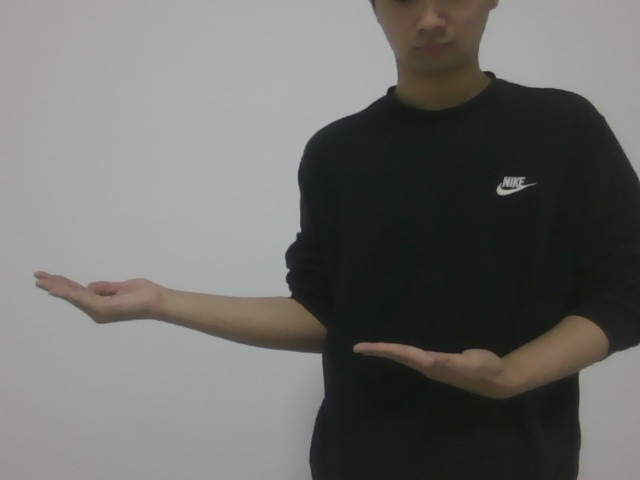please: (22, 257, 525, 420)
